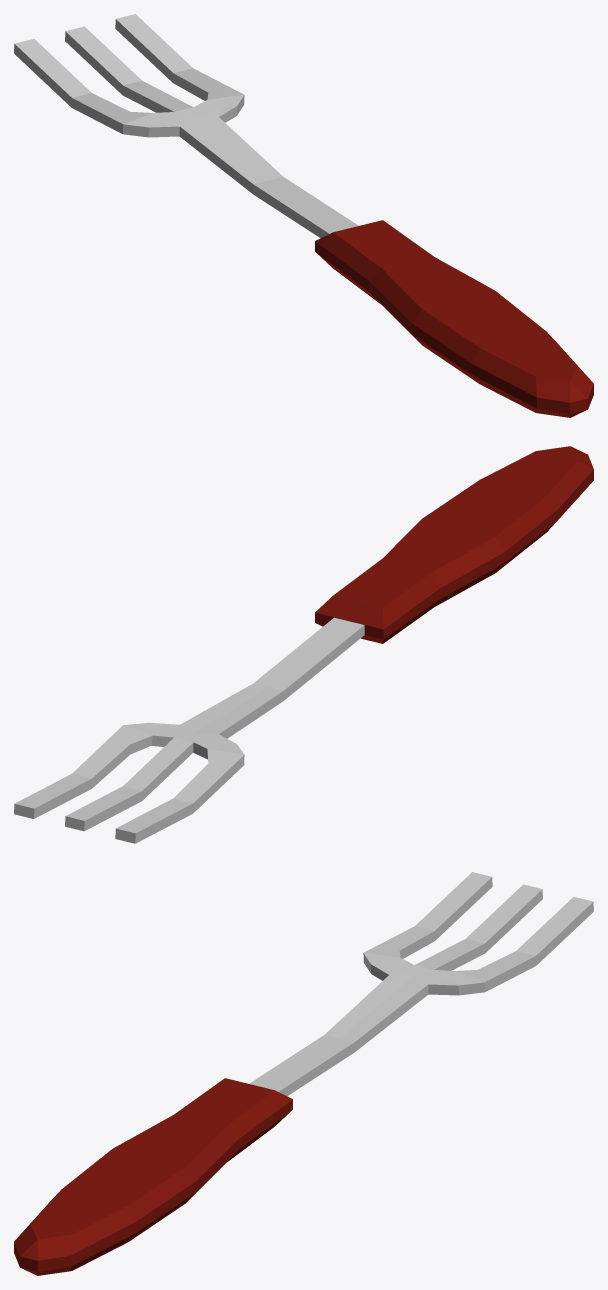
File: fork.glb
3 renders of one model, top to bottom at view 1: azimuth 30°, elevation 25°; view 2: azimuth 150°, elevation 25°; view 3: azimuth 330°, elevation 25°, orthographic.
Visible parts, largest first — view 1: Fork (Simple); view 2: Fork (Simple); view 3: Fork (Simple).
Boxes of the visible parts, x1,y1,x2,y2 form: Fork (Simple): (14, 14, 593, 417); Fork (Simple): (14, 446, 593, 843); Fork (Simple): (14, 872, 593, 1275).
Size of the model in its own units: 0.0318 by 0.00911 by 0.2289.
1 material, 1 textured.
